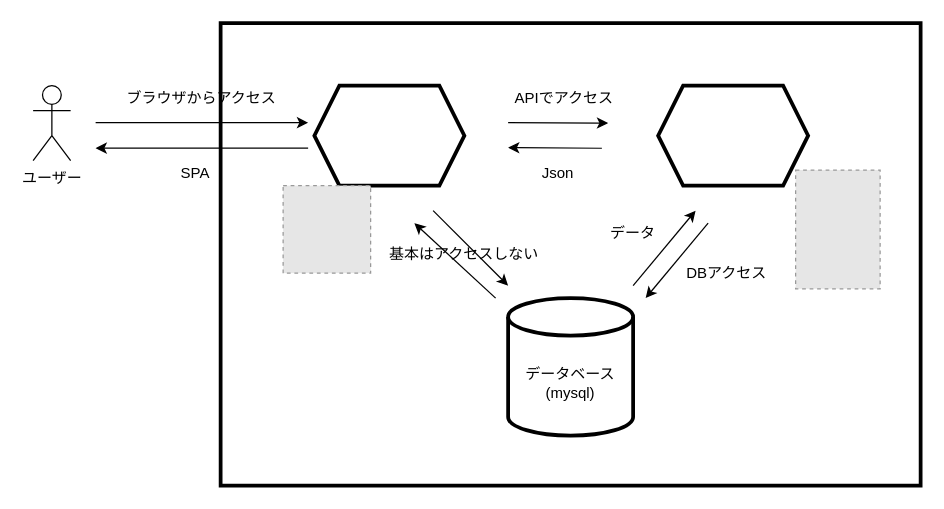
The diagram is 944 pixels wide and 509 high, and some of its shapes have lost their labels. Grey dashed boxes stand in for pictures. The shapes that lost their labels are listed below. From the top down, each one's centre as x and y in pixels, then its label:
At (x=389, y=135): "フロントエンド (Vue.js)".
At (x=732, y=135): "バックエンド (gin)".
